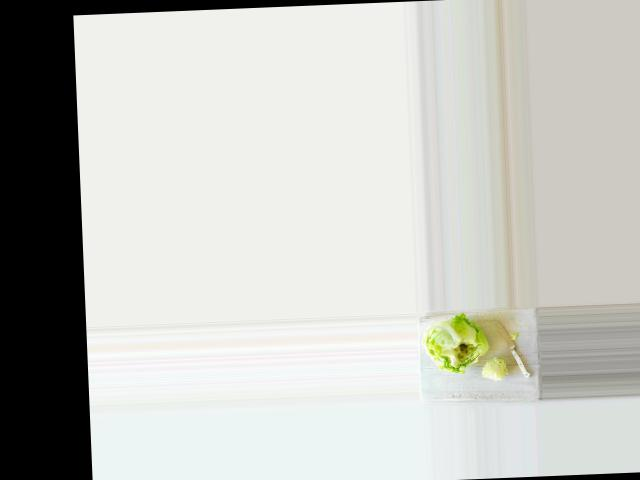lettuce: (418, 315, 483, 374)
